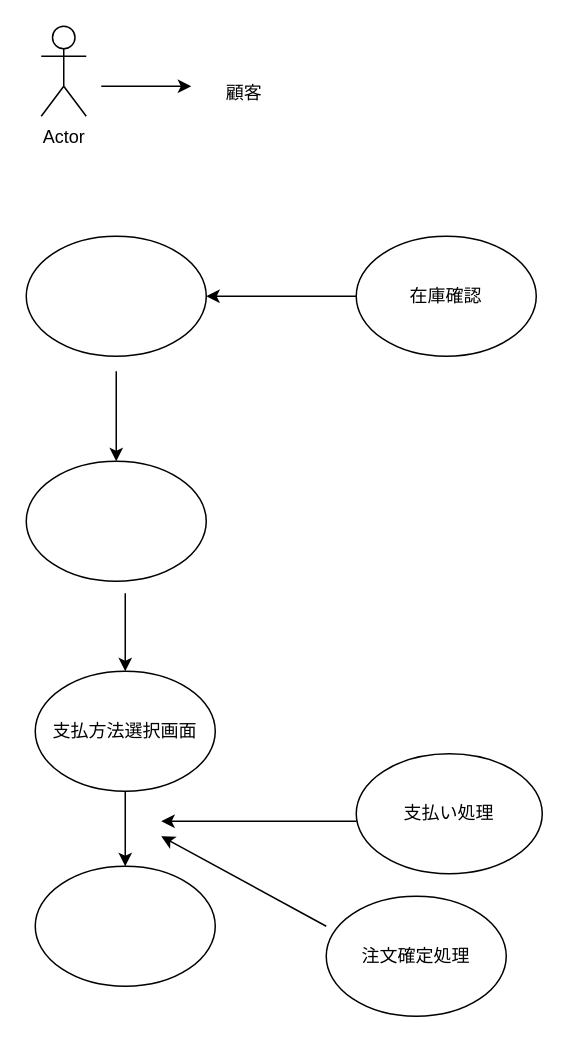
Some shapes in this 569 by 1043 pixel diagram are drawn without their labels. The shapes that lost their labels are listed below. From the top down, each one's box as (x1, y1, x2, y2) in pixels, then its label:
(25, 235, 206, 356): カート画面
(25, 460, 206, 581): 注文手続き画面
(34, 865, 215, 986): 注文完了メール
